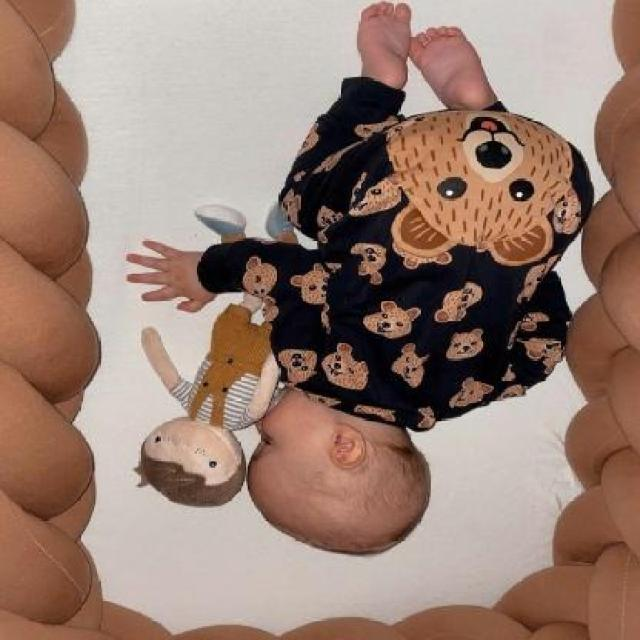baby: (124, 9, 590, 558)
